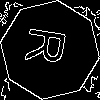R: (25, 25, 76, 68)
